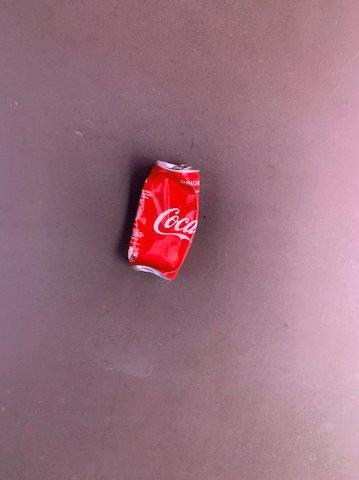kaleng: (129, 161, 199, 280)
